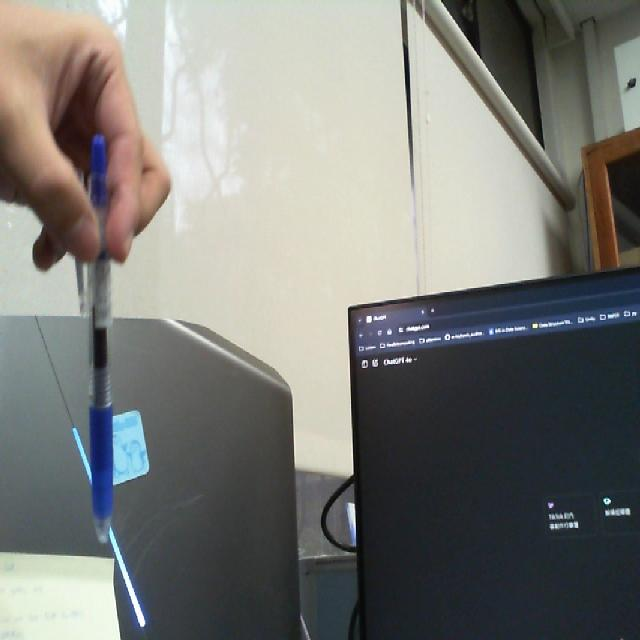Pen: (56, 117, 152, 553)
